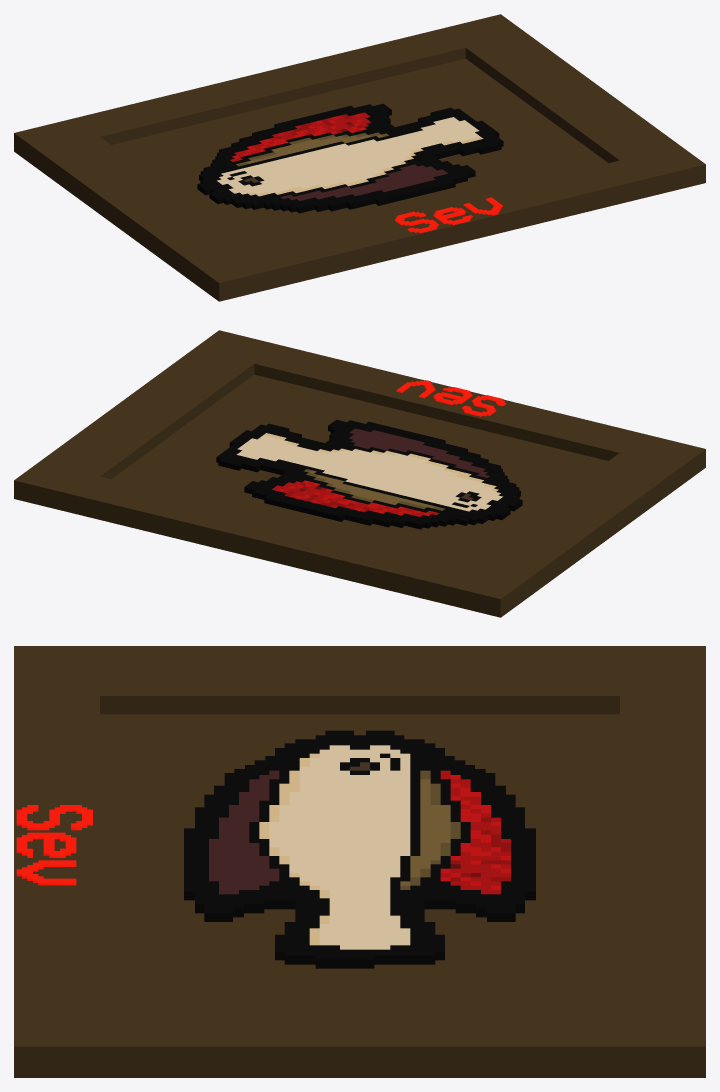
The model's file is youtuberfish.glb.
3 views of the same model, one above another, from view 1: azimuth 30°, elevation 25°; view 2: azimuth 150°, elevation 25°; view 3: azimuth 270°, elevation 25° (orthographic). The views are drawn at different scales.
Parts seen in each view (by area): view 1: Cube, Plane, Text; view 2: Cube, Plane, Text; view 3: Cube, Plane, Text.
Boxes of the visible parts, <box> form: Cube: <box>14,14,705,301</box>; Plane: <box>197,103,503,213</box>; Text: <box>395,197,502,233</box>; Cube: <box>14,330,705,617</box>; Plane: <box>216,419,522,529</box>; Text: <box>396,380,506,416</box>; Cube: <box>14,646,705,1077</box>; Plane: <box>184,730,535,968</box>; Text: <box>16,805,92,885</box>.
Bounding box in the file's own units: 3.32 × 0.1296 × 2.42.
3 materials, 1 textured.
